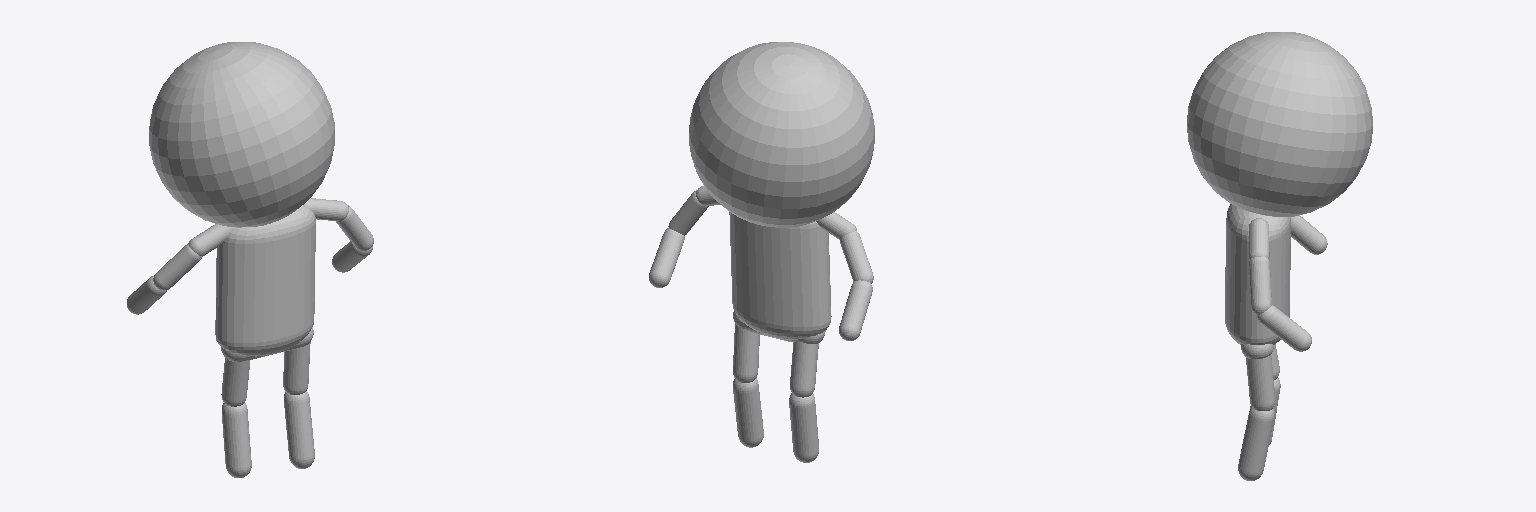
The model's file is Stickman_000064.obj.
3 renders of one model, left to right at view 1: azimuth 30°, elevation 25°; view 2: azimuth 150°, elevation 25°; view 3: azimuth 270°, elevation 25°, orthographic.
Parts seen in each view (by area): view 1: Head_Sphere.001, Body_Roundcube.002, LowerLegLeft_Roundcube.013, LowerLegRight_Roundcube.011, UpperLegLeft_Roundcube.012, UpperLegRight_Roundcube.010, UpperArmRight_Roundcube.015, UpperArmLeft_Roundcube.018, ShoulderRight_Roundcube.014, LowerArmRight_Roundcube.016, ShoulderLeft_Roundcube.017, LowerArmLeft_Roundcube.019; view 2: Head_Sphere.001, Body_Roundcube.002, LowerLegRight_Roundcube.011, LowerLegLeft_Roundcube.013, UpperLegRight_Roundcube.010, UpperLegLeft_Roundcube.012, LowerArmRight_Roundcube.016, LowerArmLeft_Roundcube.019, UpperArmRight_Roundcube.015, UpperArmLeft_Roundcube.018, ShoulderRight_Roundcube.014; view 3: Head_Sphere.001, Body_Roundcube.002, LowerLegLeft_Roundcube.013, UpperLegLeft_Roundcube.012, LowerArmLeft_Roundcube.019, UpperArmLeft_Roundcube.018, LowerArmRight_Roundcube.016, ShoulderLeft_Roundcube.017.
Boxes of the visible parts, x1=… form: Head_Sphere.001: x1=149, y1=42, x2=334, y2=227; Body_Roundcube.002: x1=215, y1=205, x2=315, y2=356; LowerLegLeft_Roundcube.013: x1=284, y1=391, x2=314, y2=468; LowerLegRight_Roundcube.011: x1=222, y1=403, x2=251, y2=477; UpperLegLeft_Roundcube.012: x1=283, y1=342, x2=310, y2=394; UpperLegRight_Roundcube.010: x1=221, y1=358, x2=249, y2=406; UpperArmRight_Roundcube.015: x1=153, y1=244, x2=201, y2=290; UpperArmLeft_Roundcube.018: x1=336, y1=205, x2=373, y2=250; ShoulderRight_Roundcube.014: x1=188, y1=224, x2=233, y2=256; LowerArmRight_Roundcube.016: x1=127, y1=276, x2=166, y2=314; ShoulderLeft_Roundcube.017: x1=304, y1=198, x2=348, y2=220; LowerArmLeft_Roundcube.019: x1=332, y1=241, x2=372, y2=272; Head_Sphere.001: x1=689, y1=42, x2=874, y2=227; Body_Roundcube.002: x1=729, y1=212, x2=831, y2=339; LowerLegRight_Roundcube.011: x1=789, y1=393, x2=818, y2=462; LowerLegLeft_Roundcube.013: x1=733, y1=378, x2=763, y2=447; UpperLegRight_Roundcube.010: x1=790, y1=341, x2=818, y2=397; UpperLegLeft_Roundcube.012: x1=733, y1=324, x2=759, y2=382; LowerArmRight_Roundcube.016: x1=839, y1=280, x2=872, y2=340; LowerArmLeft_Roundcube.019: x1=649, y1=228, x2=684, y2=287; UpperArmRight_Roundcube.015: x1=840, y1=231, x2=873, y2=283; UpperArmLeft_Roundcube.018: x1=668, y1=190, x2=708, y2=235; ShoulderRight_Roundcube.014: x1=816, y1=212, x2=856, y2=239; Head_Sphere.001: x1=1187, y1=32, x2=1372, y2=216; Body_Roundcube.002: x1=1225, y1=204, x2=1290, y2=344; LowerLegLeft_Roundcube.013: x1=1238, y1=407, x2=1274, y2=480; UpperLegLeft_Roundcube.012: x1=1246, y1=355, x2=1275, y2=410; LowerArmLeft_Roundcube.019: x1=1257, y1=305, x2=1311, y2=351; UpperArmLeft_Roundcube.018: x1=1249, y1=257, x2=1271, y2=314; LowerArmRight_Roundcube.016: x1=1291, y1=215, x2=1327, y2=254; ShoulderLeft_Roundcube.017: x1=1249, y1=218, x2=1269, y2=260.
Size of the model in its own units: 6.89 by 12.55 by 5.08.